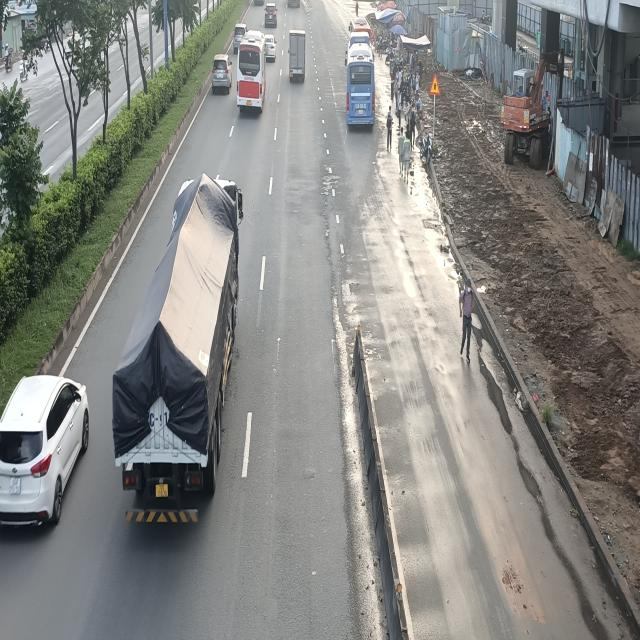car: (0, 372, 88, 528), (212, 54, 232, 96)
coach: (346, 32, 376, 130), (236, 27, 267, 115)
truck: (109, 180, 239, 536), (287, 30, 305, 83)
